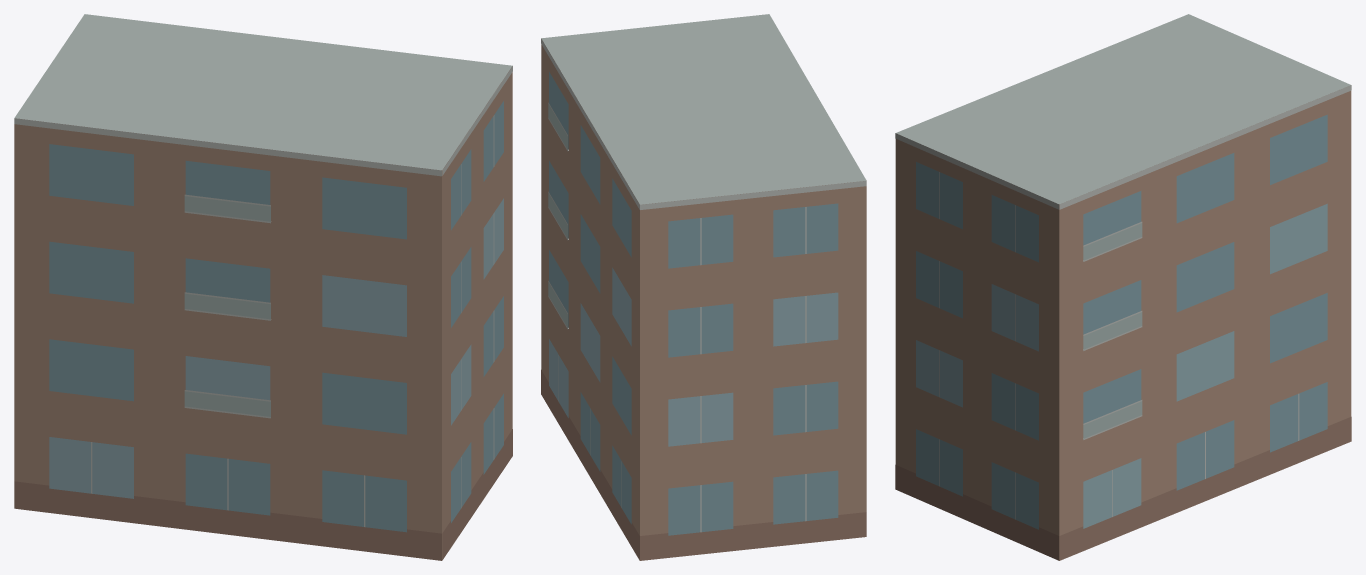
Rendered from survey-upis-32962276.glb.
The picture shows the model from 3 angles, left to right: view 1: azimuth 30°, elevation 25°; view 2: azimuth 150°, elevation 25°; view 3: azimuth 270°, elevation 25°; orthographic projection. The views are drawn at different scales.
Parts seen in each view (by area): view 1: survey-upis-32962276.tmp; view 2: survey-upis-32962276.tmp; view 3: survey-upis-32962276.tmp.
Part boxes in pixels (x1,y1,x2,y2): survey-upis-32962276.tmp: (14,14,512,560); survey-upis-32962276.tmp: (541,14,866,560); survey-upis-32962276.tmp: (895,14,1351,560).
Bounding box in the file's own units: 18.32 × 15.98 × 18.53.
